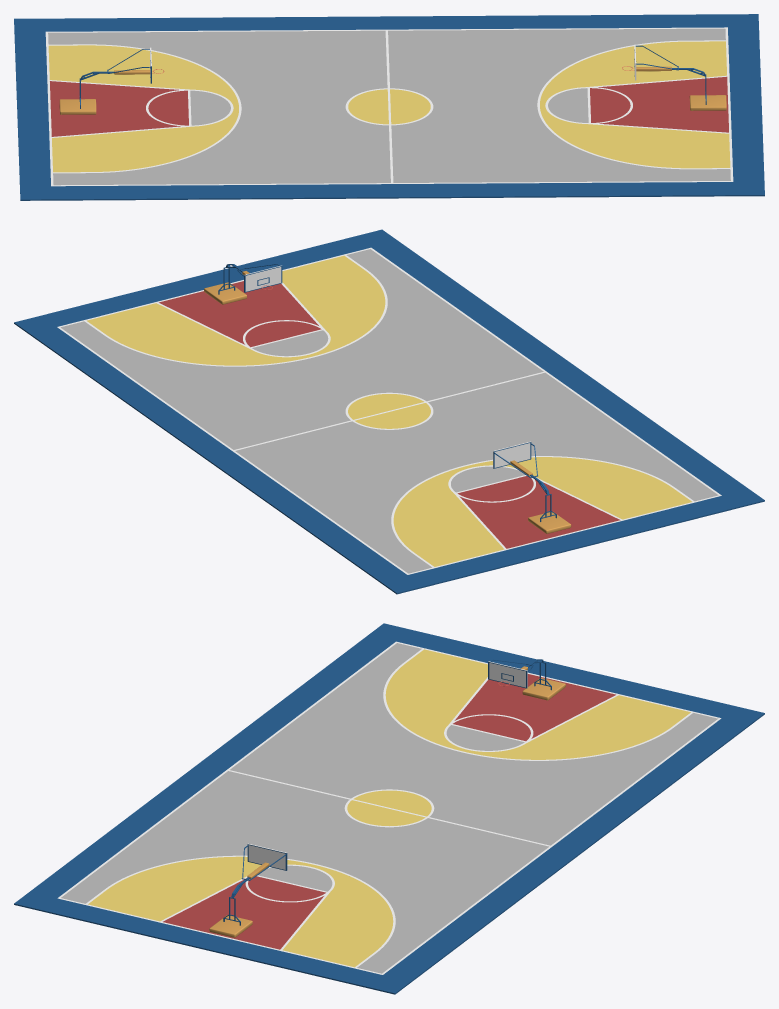
Rendered from lanqiuchang2.gltf.
The picture shows the model from 3 angles, top to bottom: view 1: azimuth 30°, elevation 25°; view 2: azimuth 150°, elevation 25°; view 3: azimuth 270°, elevation 25°; orthographic projection.
Visible parts, largest first — view 1: dx163; view 2: dx163; view 3: dx163.
Part boxes in pixels (box(x1,y1,x2,y2)): dx163: box(14, 14, 764, 200); dx163: box(14, 229, 764, 594); dx163: box(14, 623, 764, 994).
Bounding box in the file's own units: 370 × 25.02 × 317.
